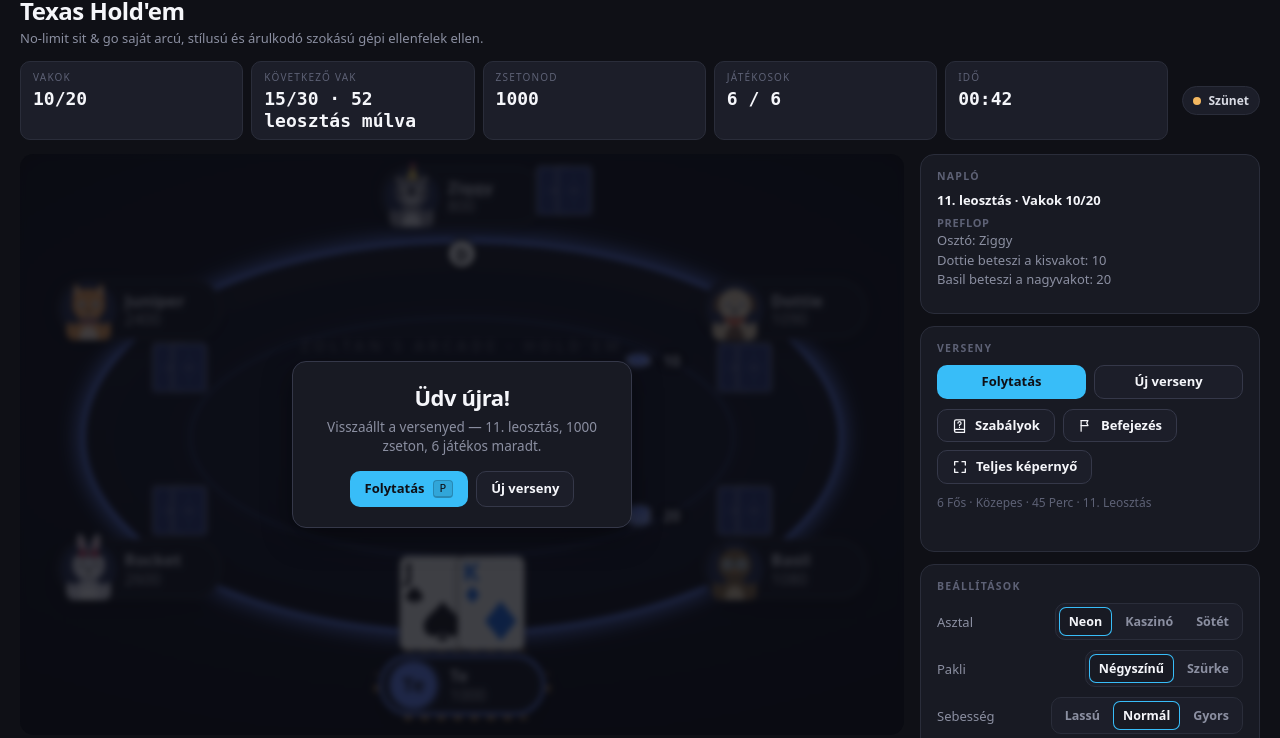
Test: Hold’em finish early › Cancel changes nothing
Click the button "Folytatás P".
click(409, 489)  # box [350,471,468,507]
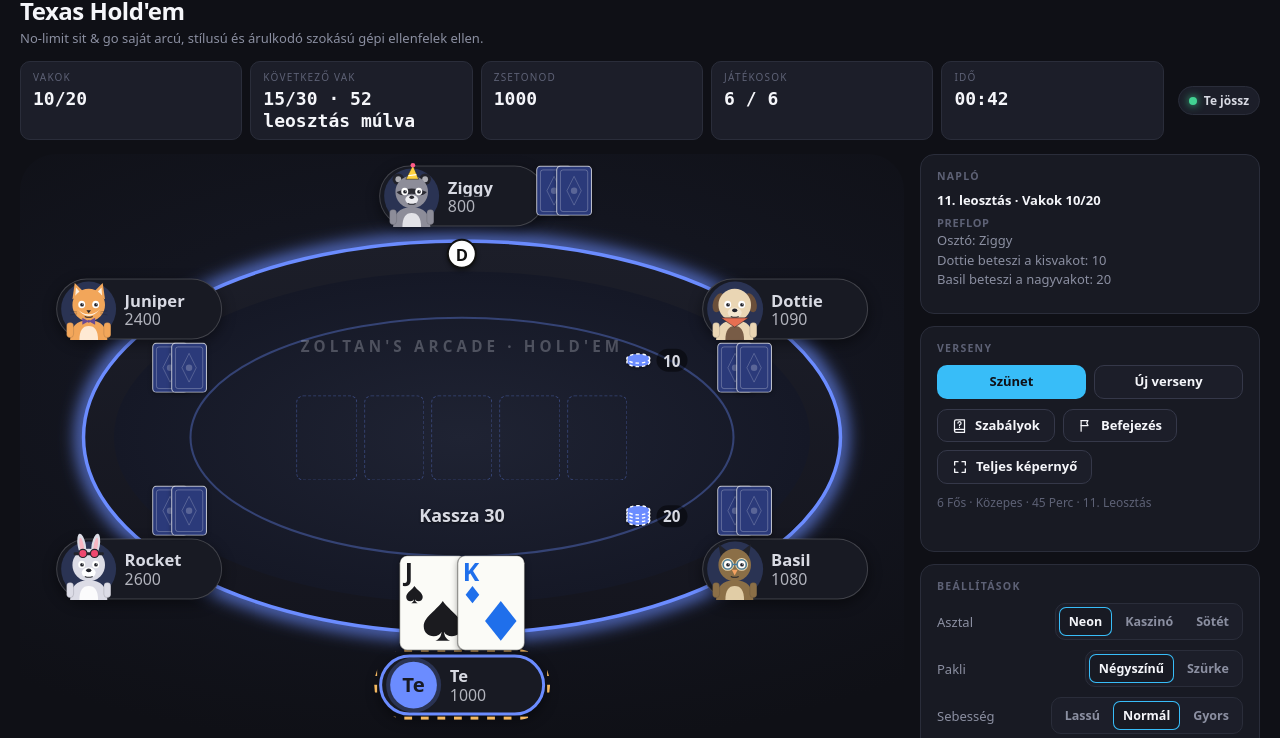
Click the button "Befejezés".
click(1120, 425)  # box [1063,409,1177,442]
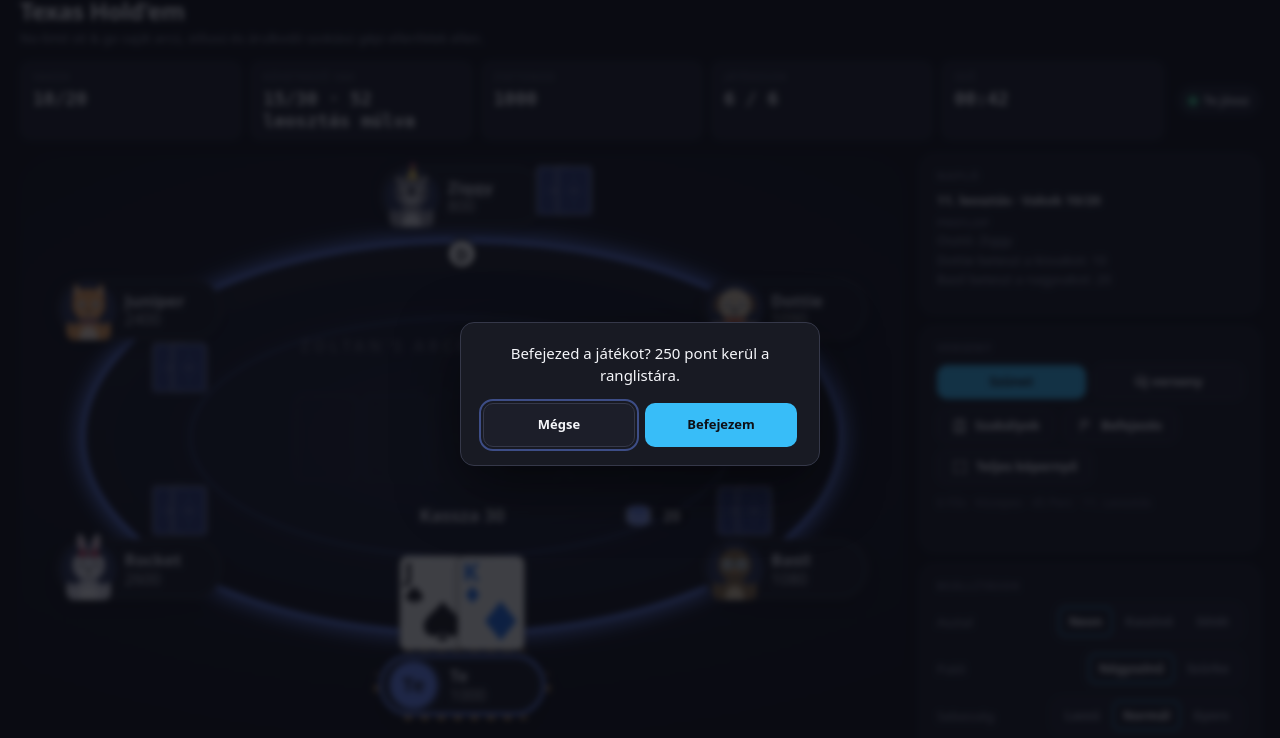
Click the button "Mégse".
click(559, 425)  # box [483,403,635,447]
(page scrolled)
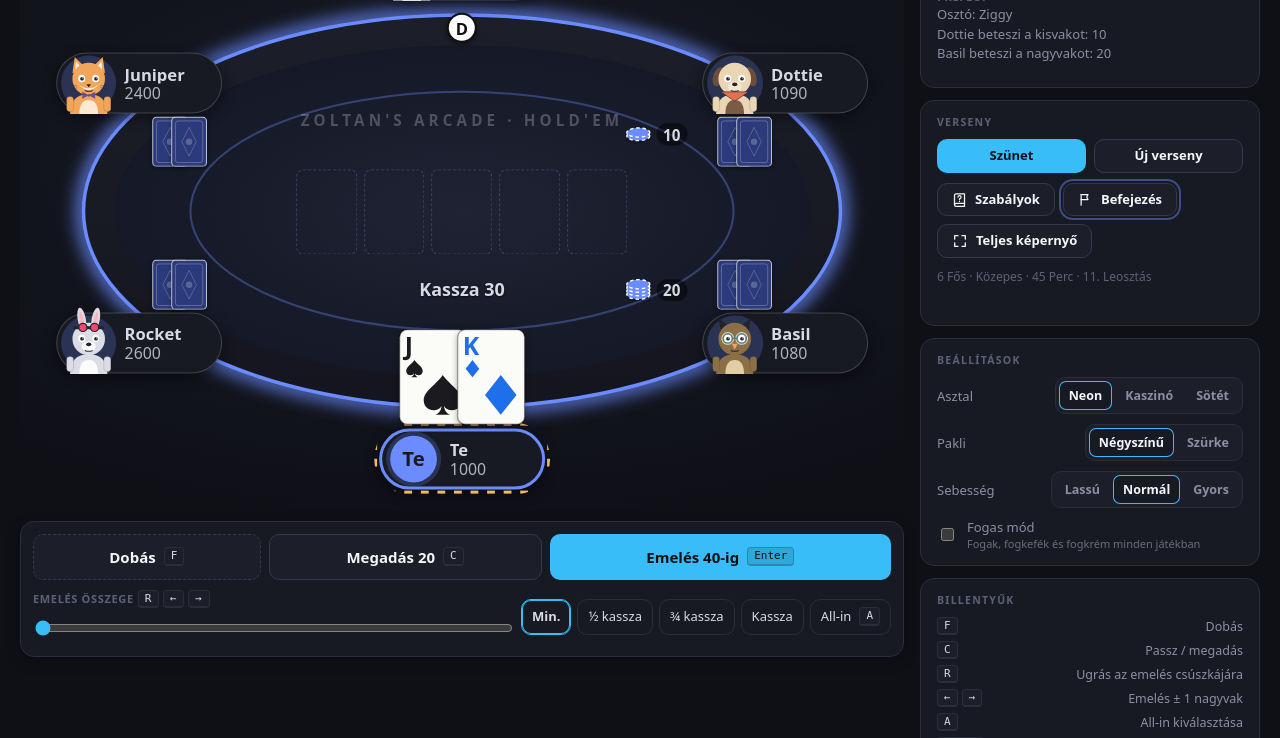
expect the dialog is gone: met
expect the button "Dobás F" is enabled: met, box [33,534,261,580]
